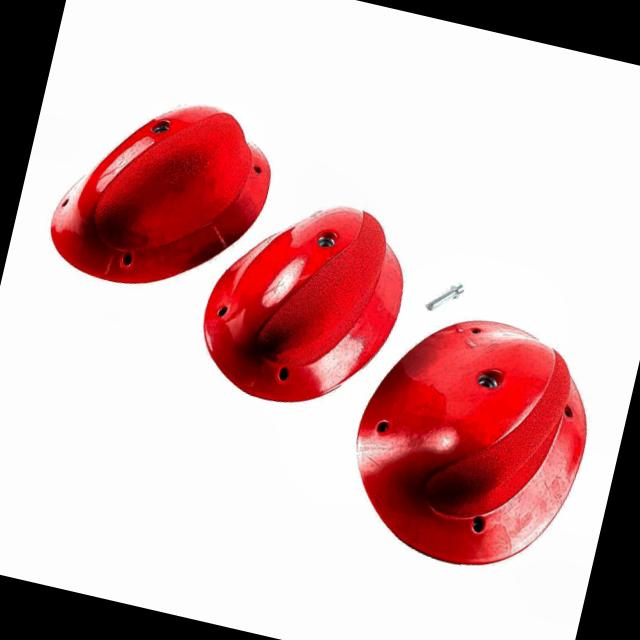Hold: (336, 292, 606, 588), (188, 178, 423, 428), (38, 78, 278, 306)
